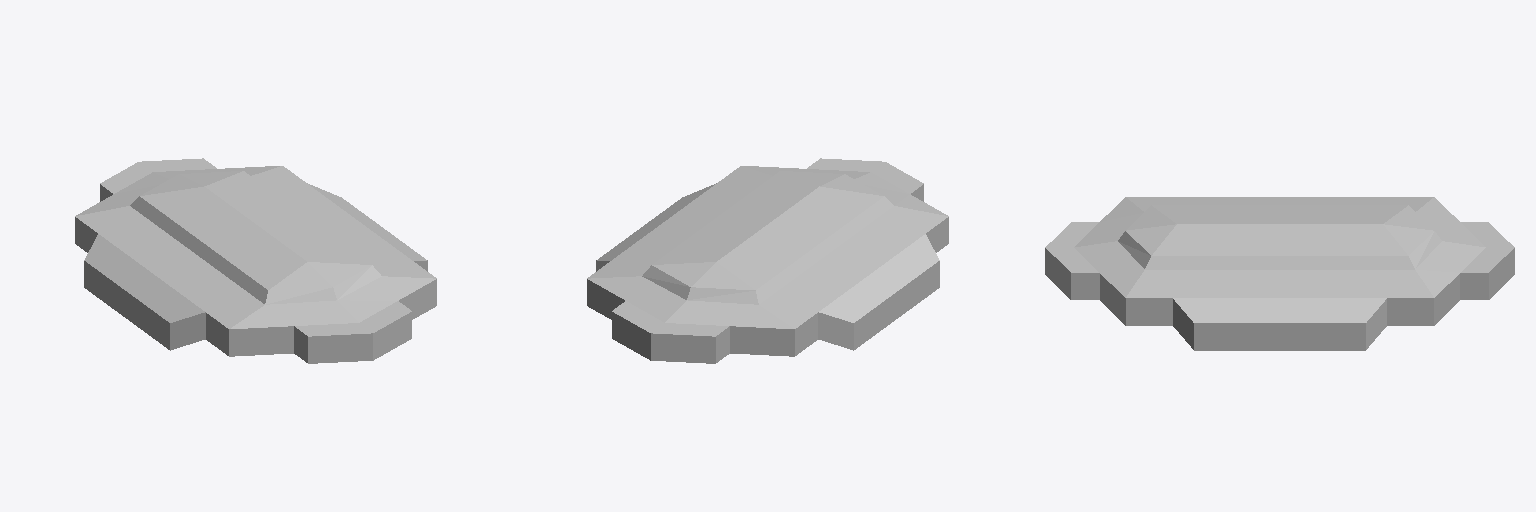
The model's file is WeirdShield1.obj.
3 renders of one model, left to right at view 1: azimuth 30°, elevation 25°; view 2: azimuth 150°, elevation 25°; view 3: azimuth 270°, elevation 25°, orthographic.
Visible parts, largest first — view 1: Cube_Cube.001; view 2: Cube_Cube.001; view 3: Cube_Cube.001.
Boxes of the visible parts, x1=… form: Cube_Cube.001: x1=75, y1=158, x2=436, y2=363; Cube_Cube.001: x1=587, y1=158, x2=948, y2=363; Cube_Cube.001: x1=1045, y1=197, x2=1514, y2=350.
Size of the model in its own units: 0.52 by 0.1227 by 0.82.